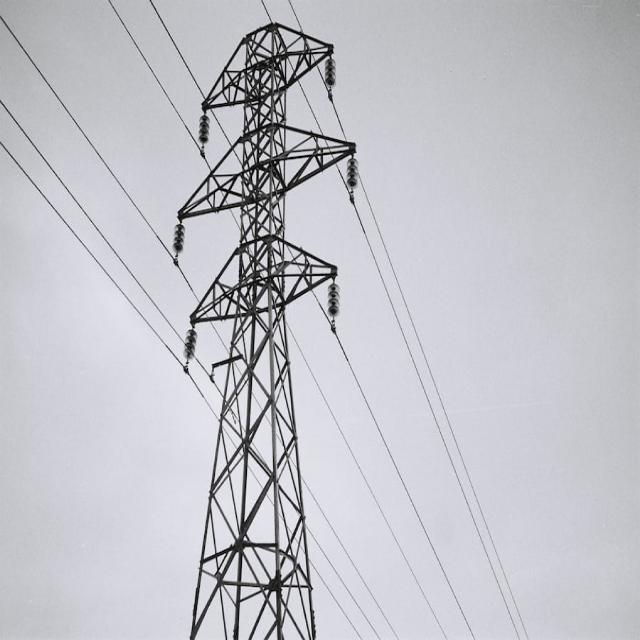insulator: (345, 152, 380, 226), (315, 267, 353, 330), (185, 106, 222, 165), (171, 323, 203, 372), (165, 222, 192, 266), (318, 53, 341, 96)
transmission tower: (175, 26, 419, 640)
